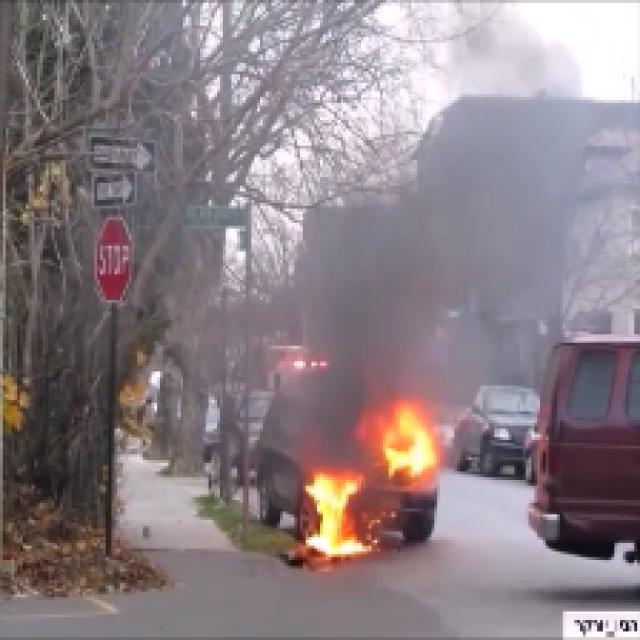fire: (306, 474, 362, 564), (380, 407, 437, 475)
smoke: (320, 183, 499, 399), (298, 398, 370, 470)
